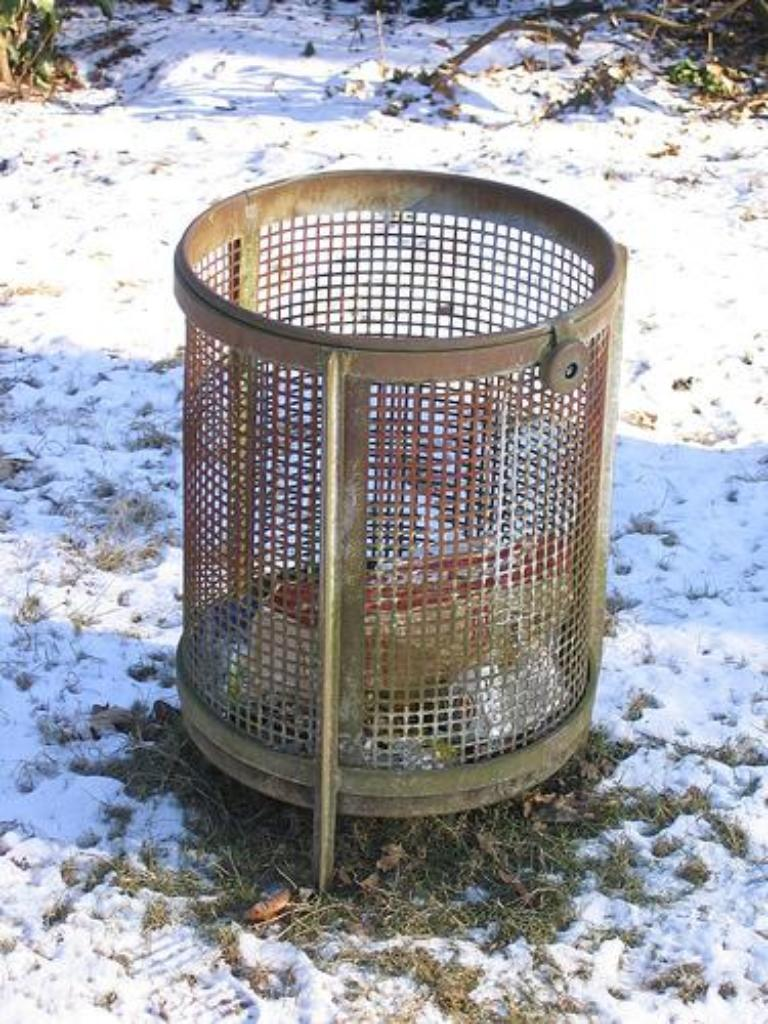dustbin: (152, 138, 655, 909)
